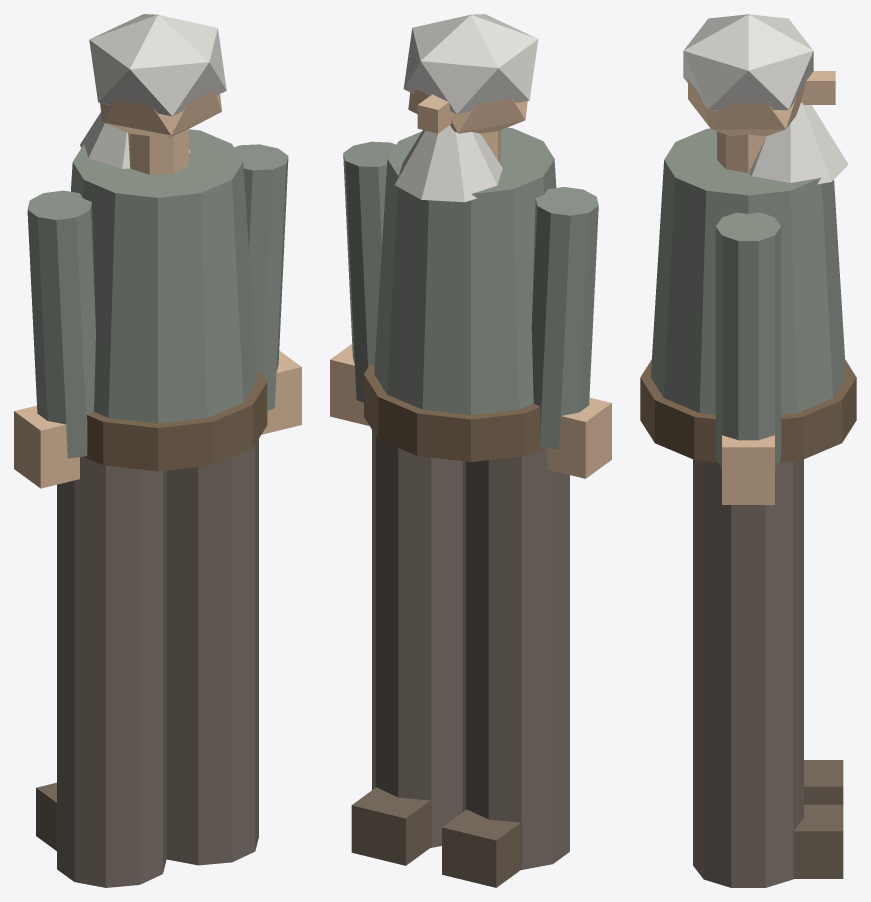
File: elder_man.glb
The picture shows the model from 3 angles, left to right: view 1: azimuth 30°, elevation 25°; view 2: azimuth 150°, elevation 25°; view 3: azimuth 270°, elevation 25°; orthographic projection. The views are drawn at different scales.
Visible parts, largest first — view 1: elder_man; view 2: elder_man; view 3: elder_man.
Part boxes in pixels (x1=…): elder_man: x1=14, y1=14, x2=301, y2=887; elder_man: x1=330, y1=14, x2=611, y2=887; elder_man: x1=640, y1=14, x2=856, y2=887.
Bounding box in the file's own units: 0.5424 × 1.67 × 0.3936.
